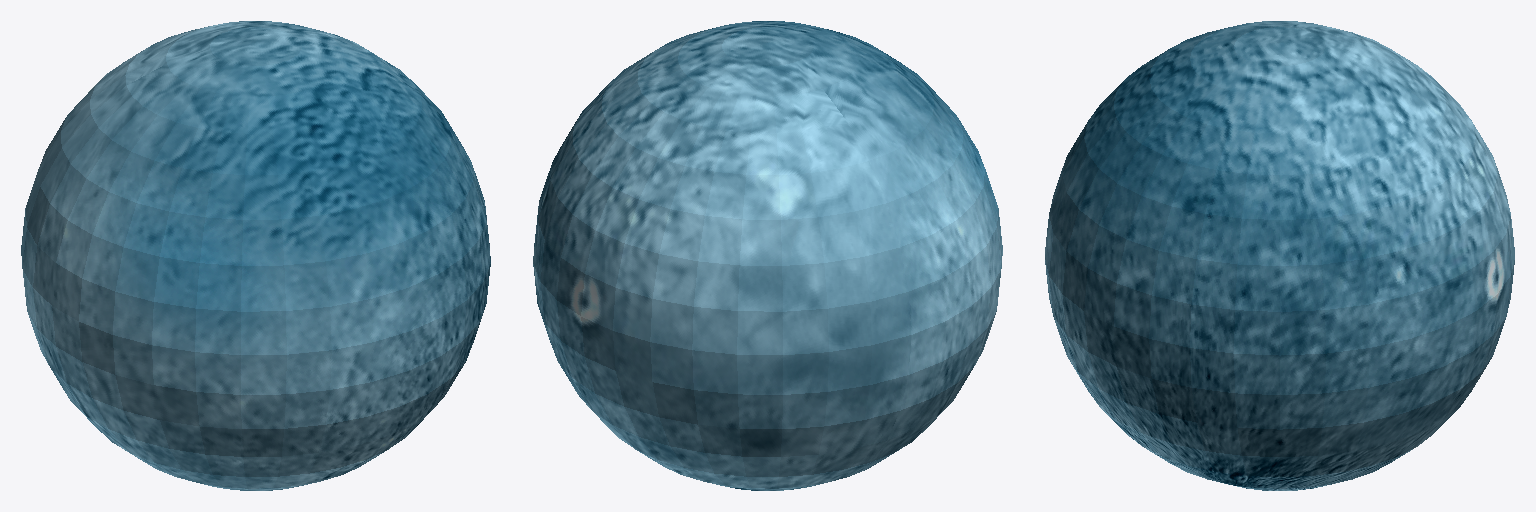
3 views of the same model, side by side, from view 1: azimuth 30°, elevation 25°; view 2: azimuth 150°, elevation 25°; view 3: azimuth 270°, elevation 25° (orthographic).
Parts seen in each view (by area): view 1: Sphere; view 2: Sphere; view 3: Sphere.
Part boxes in pixels (x1,y1,x2,y2): Sphere: (21, 21, 490, 490); Sphere: (533, 21, 1002, 490); Sphere: (1045, 21, 1514, 490).
Bounding box in the file's own units: 2 × 2 × 2.
1 materials, 1 textured.